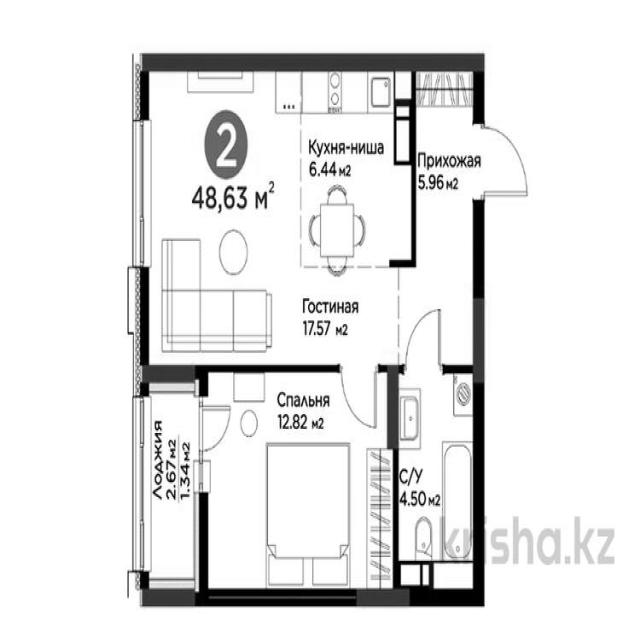balcony: (140, 369, 200, 596)
bathroom: (397, 368, 479, 596)
hallway: (412, 62, 482, 368)
living_room: (204, 368, 396, 604)
studio: (139, 63, 415, 370)
